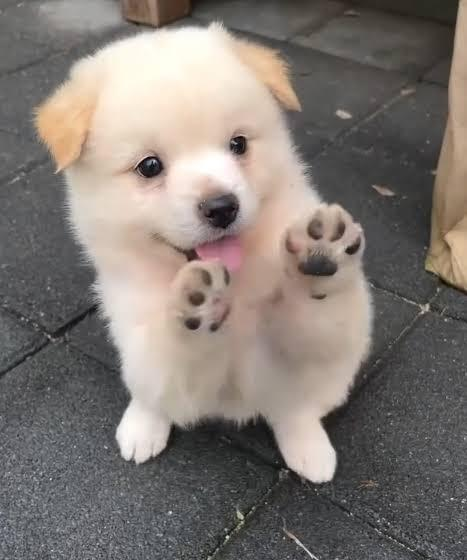puppy-dog: (32, 21, 376, 483)
